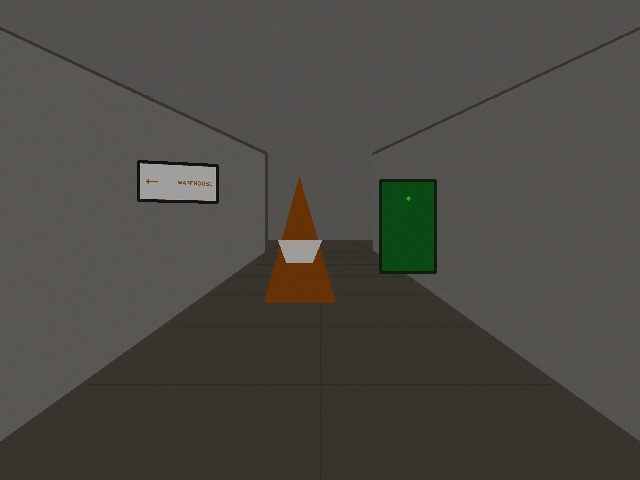charging_station: (380, 180, 435, 272)
directional_sign: (138, 161, 217, 202)
obstacle: (264, 177, 335, 302)
